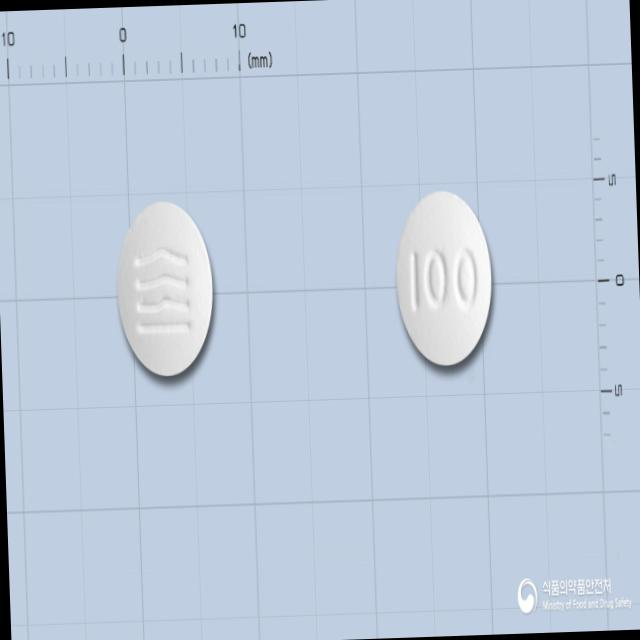Levotra: (114, 197, 218, 378), (392, 186, 496, 367)
